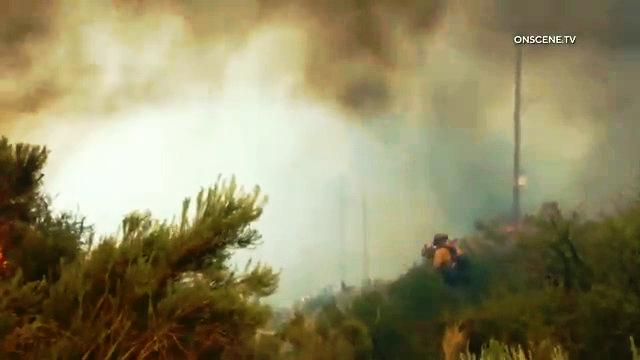smoke: (0, 5, 452, 129)
